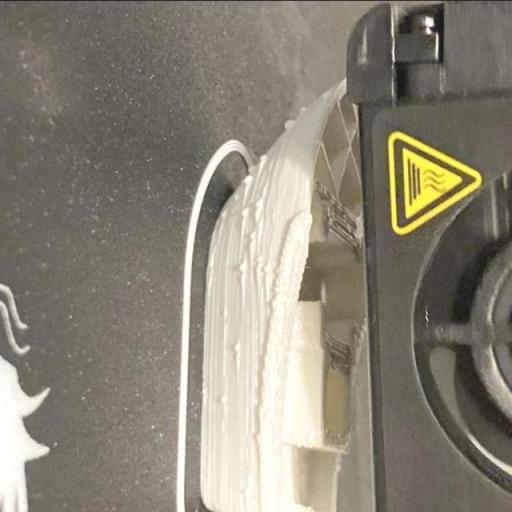blobs: (259, 256, 278, 278), (232, 256, 250, 275), (234, 200, 252, 218), (239, 172, 257, 187), (230, 339, 244, 355), (218, 387, 232, 403), (282, 118, 300, 130), (247, 225, 260, 241), (257, 150, 270, 163), (254, 195, 266, 208)
